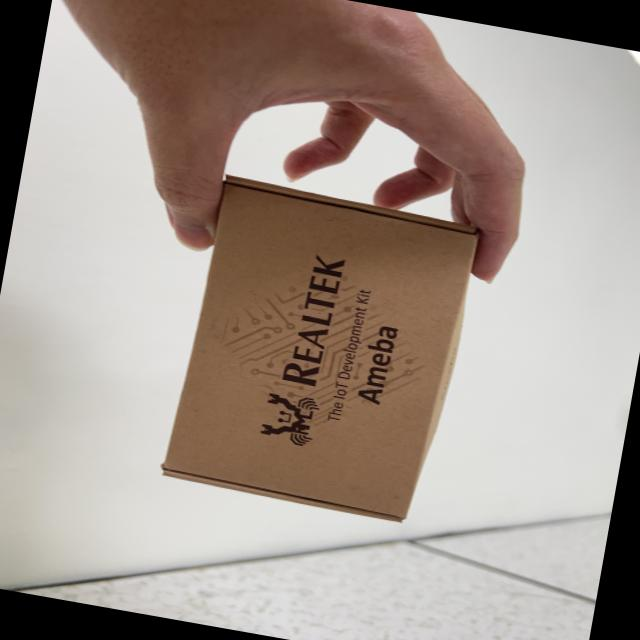box: (142, 152, 489, 570)
